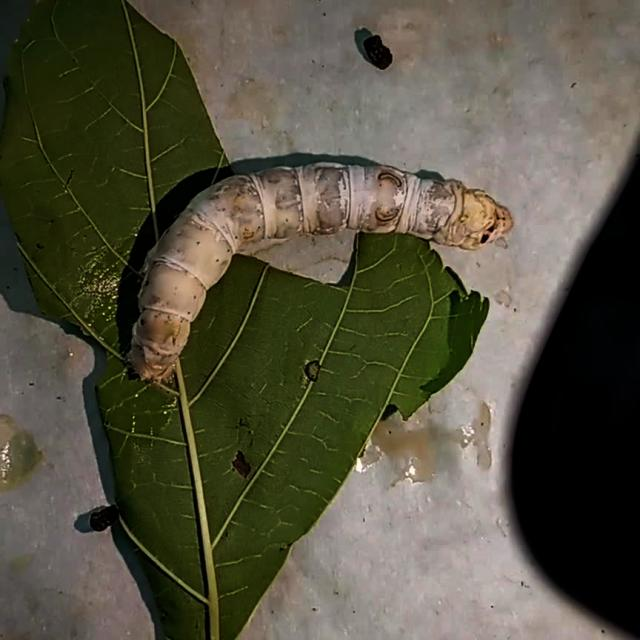Grasserie: (95, 147, 537, 404)
